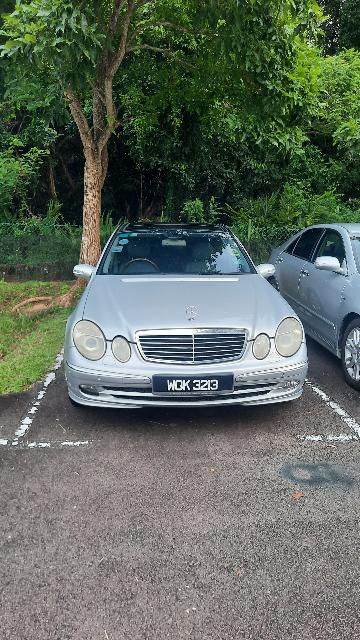License_Plate: (147, 371, 237, 395)
car: (63, 213, 310, 419)
